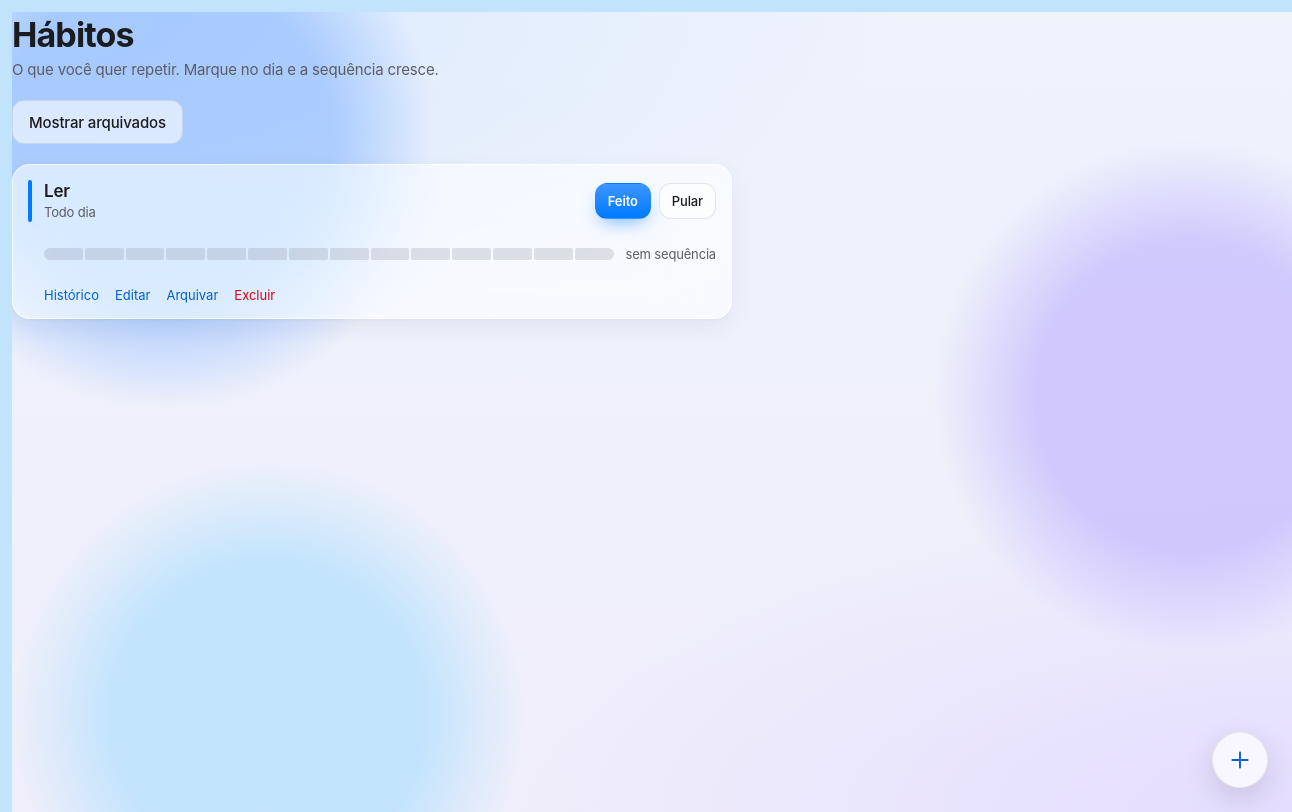
Test: Habitos › o historico so e buscado quando aberto
The image size is (1292, 812).
What coordinates should you click on to do the following:
click the button "Histórico"
I would click on:
 (72, 295)
Its box is [44, 287, 99, 303].
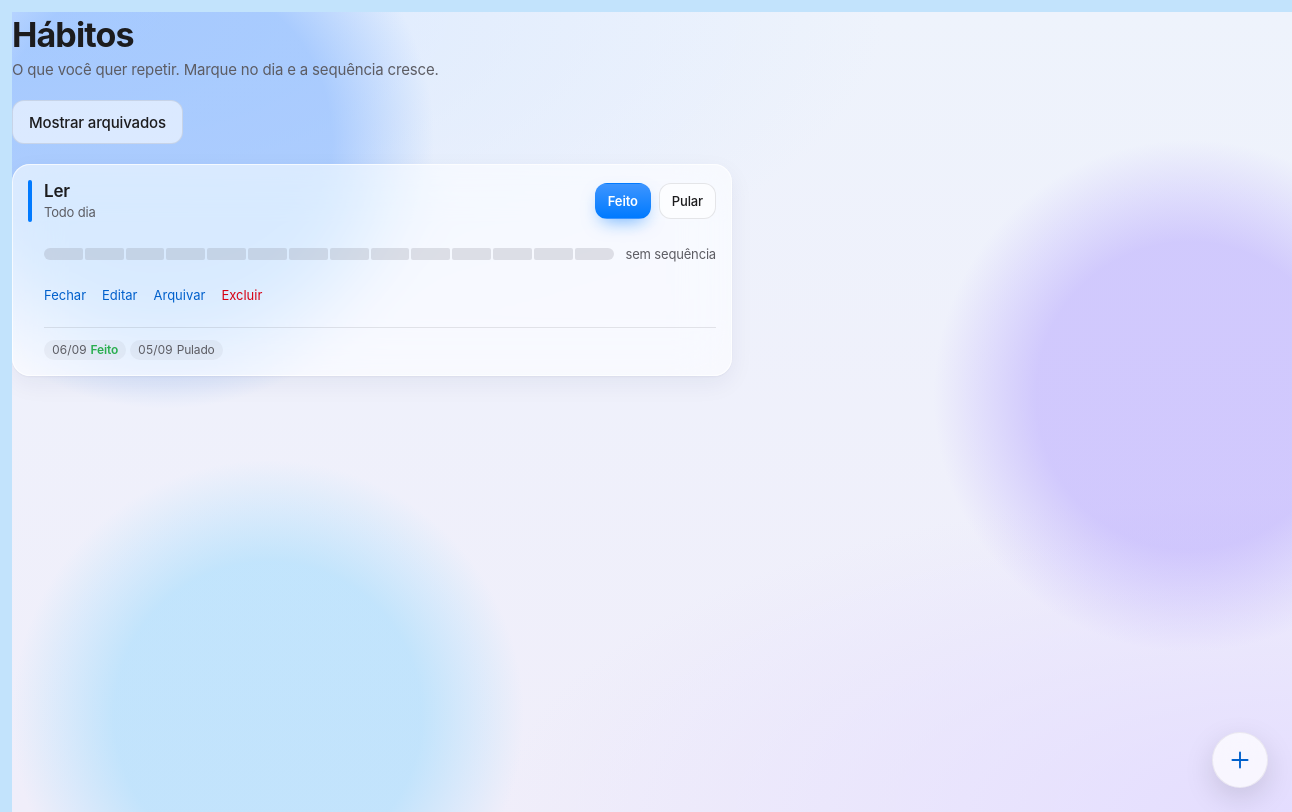
Result: the text "06/09" is shown at [52, 342, 87, 358]
Result: the text "Pulado" is shown at [177, 342, 215, 358]
